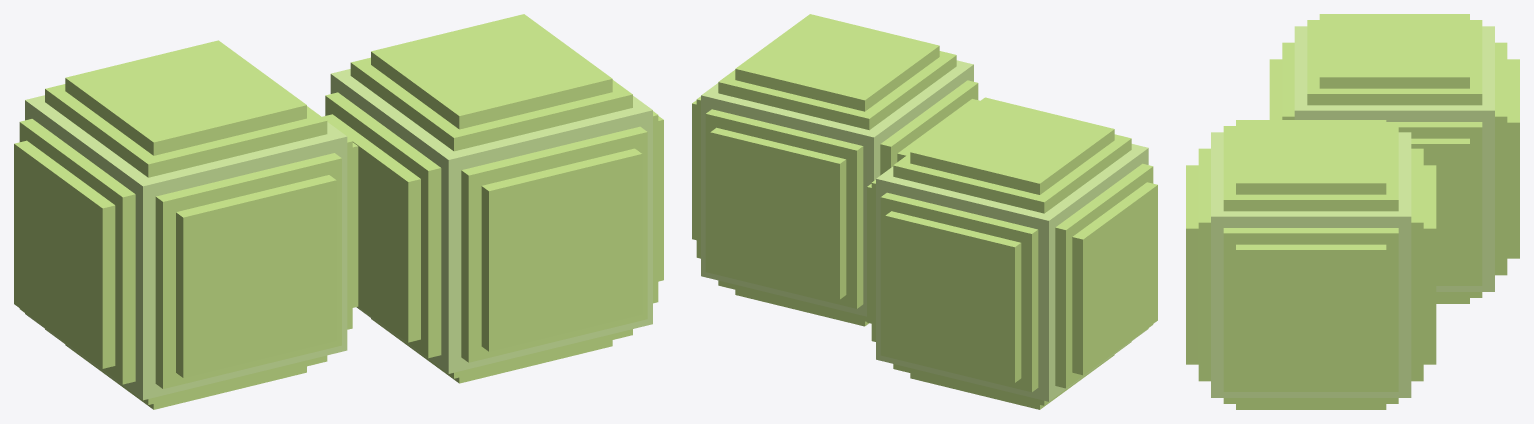
Rendered from cabbages.gltf.
The picture shows the model from 3 angles, left to right: view 1: azimuth 30°, elevation 25°; view 2: azimuth 150°, elevation 25°; view 3: azimuth 270°, elevation 25°; orthographic projection. The views are drawn at different scales.
Visible parts, largest first — view 1: side_1_2, side_1_1, mid_4_1, TOP1_2, TOP1_1, main_1, main_2, mid_4_2, side_2, side_1, mid_5_1, mid_5_2 (+10 smaller); view 2: mid_1_2, mid_1_1, mid_4_1, TOP1_1, TOP1_2, main_1, main_2, mid_2_2, mid_2_1, mid_5_1, TOP_1, TOP_2 (+10 smaller); view 3: das_2, TOP1_2, TOP1_1, main_2, sdaasd_2, main_1, das_1, TOP_2, TOP_1, sdaasd_1, mid_2_2, side_2 (+8 smaller).
Part boxes in pixels (x1=…): side_1_2: x1=481, y1=148, x2=642, y2=351; side_1_1: x1=176, y1=175, x2=336, y2=377; mid_4_1: x1=14, y1=140, x2=115, y2=368; TOP1_2: x1=371, y1=14, x2=612, y2=129; TOP1_1: x1=65, y1=40, x2=306, y2=155; main_1: x1=25, y1=95, x2=347, y2=400; main_2: x1=330, y1=69, x2=652, y2=373; mid_4_2: x1=322, y1=114, x2=420, y2=342; side_2: x1=461, y1=126, x2=647, y2=362; side_1: x1=155, y1=153, x2=341, y2=388; mid_5_1: x1=19, y1=119, x2=135, y2=384; mid_5_2: x1=325, y1=92, x2=441, y2=358; mid_1_2: x1=710, y1=127, x2=846, y2=299; mid_1_1: x1=885, y1=211, x2=1021, y2=382; mid_4_1: x1=1072, y1=182, x2=1157, y2=375; TOP1_1: x1=910, y1=97, x2=1114, y2=194; TOP1_2: x1=735, y1=14, x2=939, y2=111; main_1: x1=876, y1=144, x2=1148, y2=401; main_2: x1=701, y1=60, x2=973, y2=316; mid_2_2: x1=705, y1=109, x2=863, y2=308; mid_2_1: x1=880, y1=192, x2=1038, y2=392; mid_5_1: x1=1055, y1=163, x2=1153, y2=388; TOP_1: x1=893, y1=134, x2=1131, y2=213; TOP_2: x1=718, y1=51, x2=956, y2=130; das_2: x1=1236, y1=244, x2=1386, y2=385; TOP1_2: x1=1236, y1=120, x2=1386, y2=194; TOP1_1: x1=1319, y1=14, x2=1469, y2=88; main_2: x1=1211, y1=132, x2=1411, y2=397; sdaasd_2: x1=1223, y1=228, x2=1398, y2=391; main_1: x1=1294, y1=26, x2=1494, y2=291; das_1: x1=1411, y1=138, x2=1469, y2=279; TOP_2: x1=1223, y1=126, x2=1398, y2=211; TOP_1: x1=1307, y1=20, x2=1482, y2=105; sdaasd_1: x1=1386, y1=122, x2=1482, y2=285; mid_2_2: x1=1411, y1=148, x2=1423, y2=381; side_2: x1=1198, y1=148, x2=1210, y2=381.
Size of the model in its own units: 183 by 91.3 by 122.
